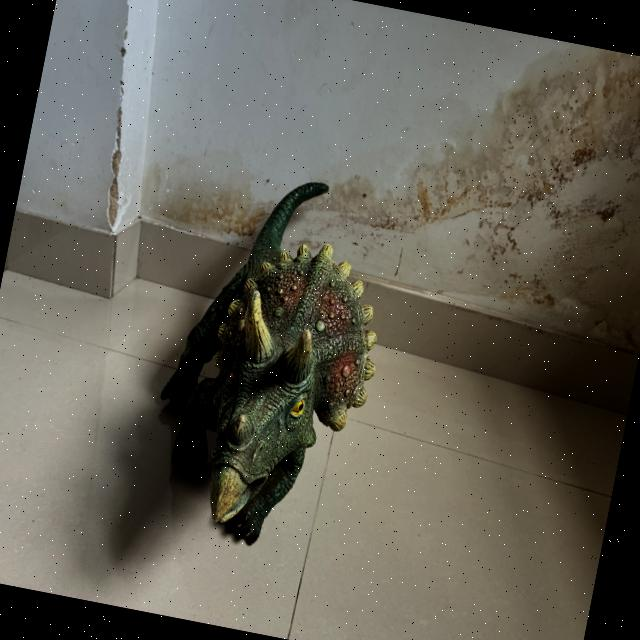dinosaur: (162, 183, 375, 543)
